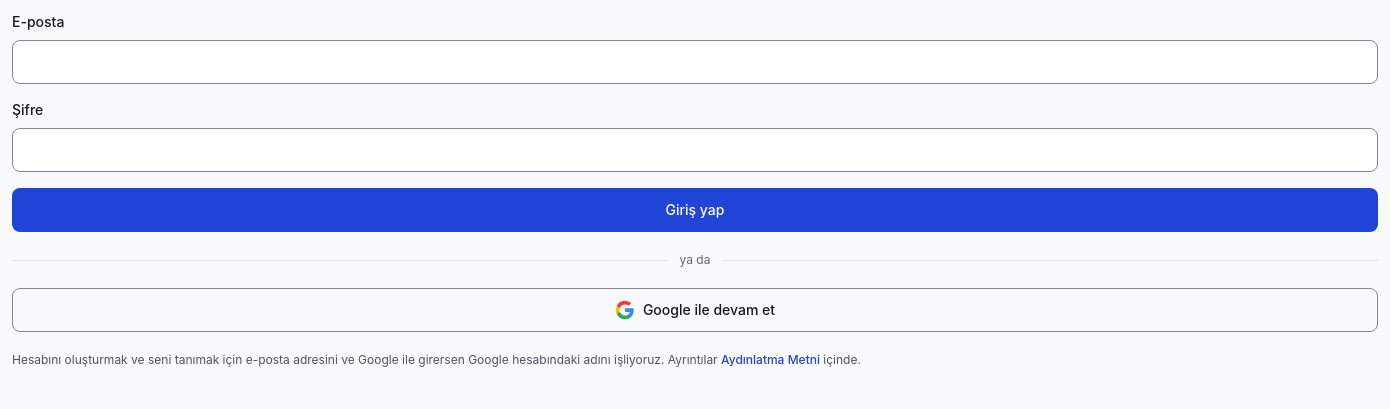
Test: CredentialsForm › istemci doğrulaması: geçersiz e-posta Firebase çağrısı yapmadan gösterilir
This screenshot has width=1390, height=409.
Type "gecersiz" into the field labelled "E-posta". click: (695,62)
box: [12, 40, 1378, 84]
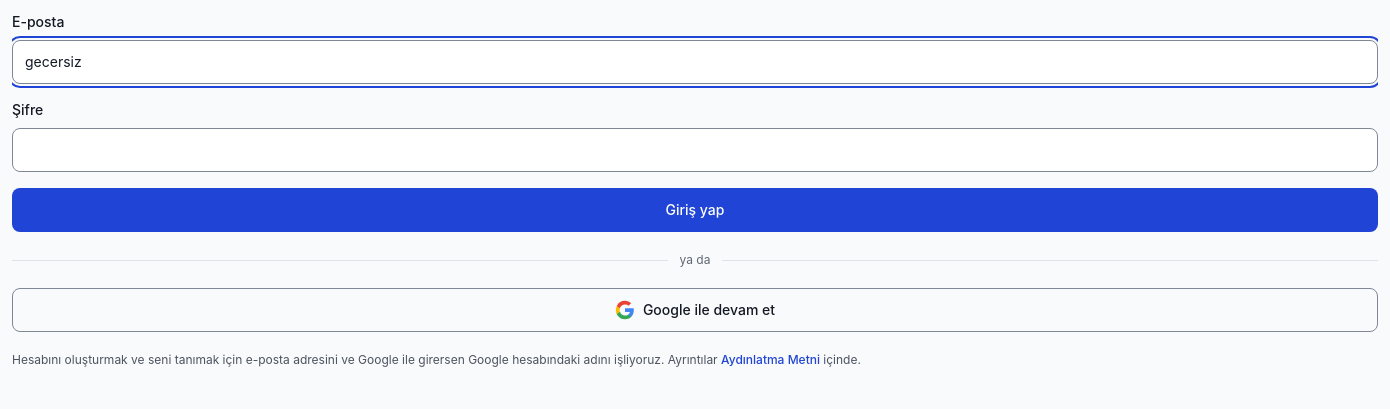
Type "x" into the password field labelled "Şifre". click: (695,150)
box: [12, 128, 1378, 172]
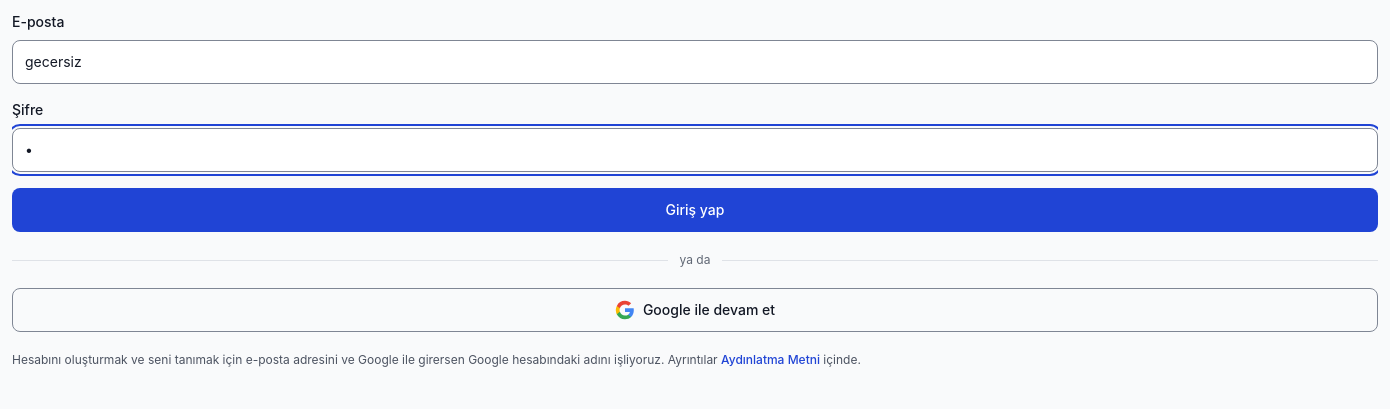
Click the button with test id "auth-submit". click: (695,210)
box: [12, 188, 1378, 232]
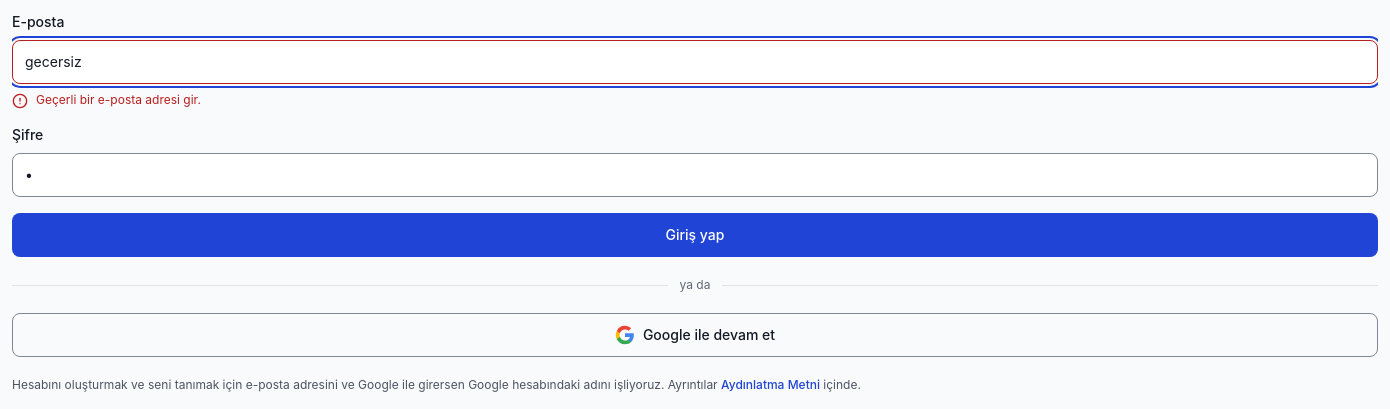
Expected: the text "Geçerli bir e-posta adresi gir." is shown, [36, 92, 201, 108]
